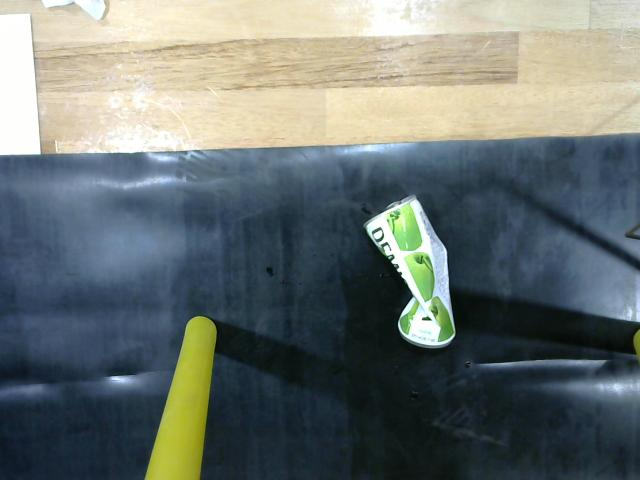can: (359, 191, 459, 347)
